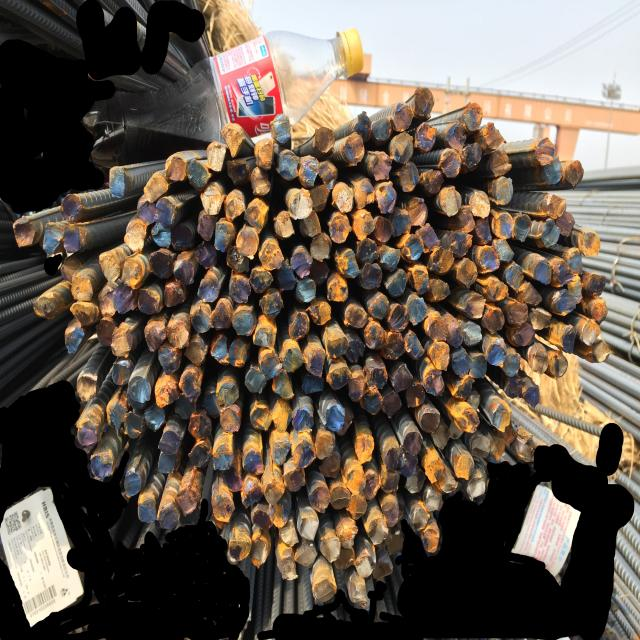Steel-Rod: (510, 423, 544, 466), (342, 571, 373, 614), (149, 374, 183, 409), (145, 317, 172, 360), (414, 225, 447, 260), (105, 166, 132, 206), (59, 189, 86, 228), (571, 225, 604, 256), (481, 120, 511, 154), (222, 530, 252, 564), (287, 310, 313, 349), (319, 320, 345, 359), (369, 145, 397, 181), (172, 250, 197, 290), (293, 211, 330, 238), (486, 176, 517, 208), (98, 251, 129, 283), (123, 371, 153, 404), (353, 180, 383, 213), (220, 124, 246, 162), (226, 274, 254, 309), (404, 201, 439, 229), (248, 533, 273, 572), (287, 188, 316, 221), (262, 236, 287, 274), (421, 361, 443, 404), (304, 302, 335, 332), (85, 453, 117, 482), (31, 295, 64, 323), (75, 369, 102, 403), (433, 250, 460, 284), (397, 158, 421, 196), (257, 344, 281, 382), (326, 209, 350, 247), (188, 159, 214, 194), (199, 183, 224, 219), (579, 318, 609, 348), (224, 188, 247, 227), (11, 217, 39, 249), (484, 276, 511, 309), (216, 374, 240, 411), (269, 492, 293, 529), (317, 529, 341, 566), (250, 138, 276, 172), (313, 576, 339, 610), (427, 342, 453, 376), (181, 366, 204, 404), (134, 289, 165, 317), (476, 248, 504, 279), (447, 233, 478, 261), (124, 256, 151, 288), (196, 268, 223, 300), (70, 298, 103, 324), (134, 492, 160, 525), (259, 291, 284, 325), (208, 498, 239, 525), (159, 279, 186, 310), (566, 154, 588, 192), (154, 346, 180, 378), (219, 401, 245, 433), (360, 512, 386, 544), (134, 194, 159, 227), (551, 256, 576, 289), (487, 149, 516, 177), (140, 174, 167, 204), (416, 121, 442, 152), (551, 293, 582, 319), (234, 308, 260, 339), (169, 316, 192, 351), (468, 187, 493, 219), (59, 253, 84, 285), (377, 183, 402, 215), (339, 307, 372, 331), (273, 552, 300, 581), (38, 226, 64, 256), (494, 212, 520, 242), (438, 186, 464, 216), (274, 110, 296, 145), (236, 227, 258, 262), (126, 220, 150, 252), (191, 298, 211, 336), (274, 522, 301, 550), (585, 299, 613, 326), (121, 411, 147, 440), (391, 104, 416, 134), (388, 136, 418, 161), (73, 420, 98, 450), (111, 324, 133, 358), (211, 444, 233, 478), (507, 295, 529, 329), (449, 117, 469, 154), (181, 481, 201, 518), (184, 334, 207, 366), (64, 225, 85, 260), (122, 464, 143, 499), (297, 508, 318, 543), (585, 276, 612, 303), (370, 113, 392, 146), (269, 401, 291, 434), (147, 252, 176, 277), (315, 456, 344, 481), (493, 402, 512, 440), (215, 219, 235, 255), (514, 213, 536, 245), (289, 406, 316, 432), (413, 86, 438, 114), (280, 152, 304, 181), (63, 317, 84, 350), (484, 304, 505, 337), (332, 183, 353, 216), (325, 404, 348, 434), (273, 437, 295, 468), (108, 361, 134, 387), (369, 296, 395, 322), (72, 274, 97, 301), (562, 249, 589, 274), (271, 371, 296, 398), (455, 261, 482, 286), (94, 314, 115, 346), (240, 475, 261, 507), (190, 414, 213, 443), (244, 201, 267, 230), (99, 282, 118, 317), (301, 158, 320, 193), (198, 209, 215, 248), (439, 146, 459, 179), (214, 298, 234, 331), (319, 159, 341, 189), (149, 221, 175, 246), (459, 143, 483, 170), (440, 467, 458, 503), (226, 249, 253, 273), (419, 411, 446, 435), (299, 280, 323, 307), (353, 214, 377, 241), (536, 138, 555, 172), (446, 315, 465, 349), (205, 145, 228, 173), (156, 507, 179, 535), (176, 394, 199, 422), (156, 198, 179, 226), (254, 321, 277, 349), (209, 331, 229, 363), (531, 344, 551, 376), (346, 336, 366, 368), (408, 296, 428, 328), (458, 408, 480, 437), (555, 205, 576, 235), (113, 287, 134, 317), (426, 316, 447, 346), (449, 350, 469, 381), (538, 219, 560, 247), (382, 499, 404, 527), (343, 136, 364, 165), (405, 434, 424, 466), (558, 324, 577, 356), (144, 404, 169, 428), (466, 294, 491, 318), (406, 339, 426, 369), (454, 452, 472, 485), (293, 246, 312, 277), (281, 343, 302, 371), (349, 496, 369, 525), (504, 349, 524, 378), (389, 331, 407, 363), (164, 156, 186, 182), (106, 402, 128, 428), (536, 261, 558, 287), (275, 210, 294, 240), (546, 192, 567, 219), (340, 249, 361, 276), (330, 276, 351, 303), (339, 516, 356, 549), (471, 436, 491, 464), (175, 220, 195, 248), (243, 446, 263, 474), (265, 473, 283, 504), (421, 168, 445, 191), (160, 432, 184, 455), (243, 366, 265, 391), (189, 443, 210, 469), (532, 307, 553, 333), (364, 324, 385, 350), (349, 467, 366, 499), (314, 433, 334, 460), (431, 281, 450, 309), (523, 385, 547, 407), (520, 283, 544, 305), (311, 132, 336, 153), (249, 506, 274, 527), (592, 339, 613, 364), (374, 554, 394, 580), (252, 171, 272, 197), (508, 266, 527, 293), (327, 364, 346, 391), (349, 371, 366, 401), (254, 267, 271, 297), (565, 277, 587, 300), (549, 159, 567, 187), (251, 407, 272, 431), (388, 269, 406, 297), (363, 385, 379, 416), (430, 424, 449, 450), (464, 324, 481, 353), (295, 548, 322, 566), (406, 386, 424, 413), (276, 269, 297, 292), (355, 554, 375, 578), (311, 487, 327, 517), (386, 449, 406, 473), (381, 389, 396, 421), (424, 488, 442, 514), (358, 440, 376, 466), (381, 470, 397, 499), (551, 351, 565, 384), (514, 326, 535, 348), (469, 98, 484, 128), (493, 433, 509, 461), (424, 528, 441, 554), (387, 538, 409, 558), (311, 237, 330, 260), (376, 218, 392, 245), (392, 308, 409, 333), (392, 214, 409, 239), (366, 472, 380, 502), (296, 441, 311, 469), (393, 363, 409, 389), (406, 471, 424, 494), (486, 341, 504, 364), (496, 240, 516, 260), (411, 507, 425, 535), (476, 217, 490, 245), (473, 477, 489, 501), (361, 267, 381, 286), (231, 341, 246, 366), (330, 489, 345, 514), (469, 353, 484, 377), (451, 380, 473, 396), (297, 382, 322, 396), (159, 454, 178, 472), (199, 244, 217, 261), (405, 454, 417, 478), (381, 247, 394, 263), (471, 397, 488, 409)
